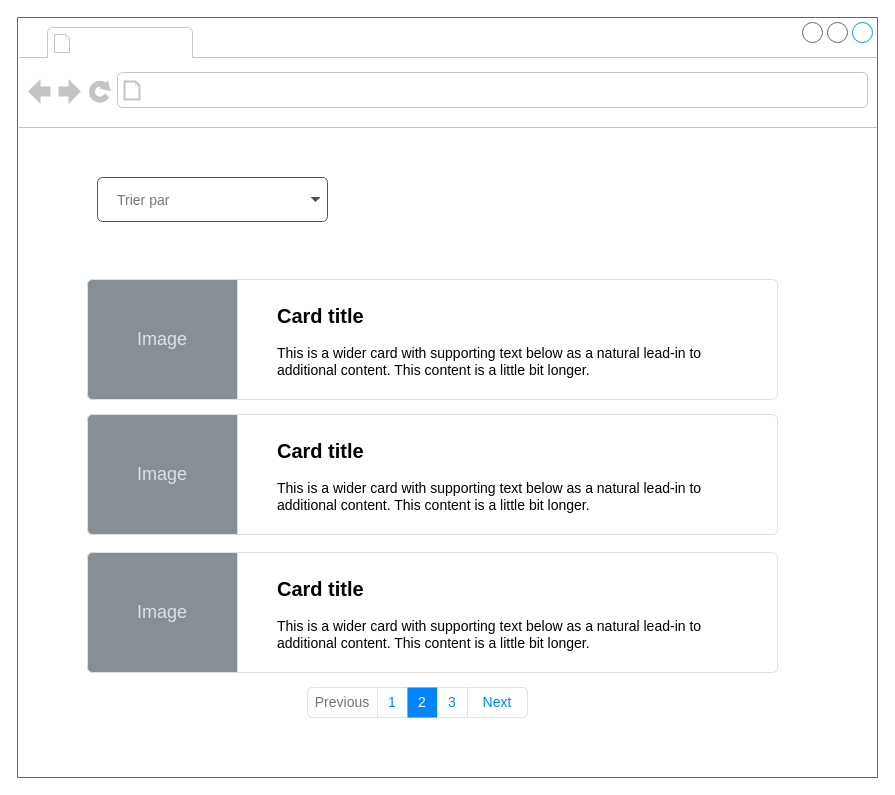
This 895x795 diagram has some shape labels left out. Each missing label, with the centre of its shape:
"https://www.draw.io" goes at point (272, 90).
"resultat recherche" goes at point (132, 42).
